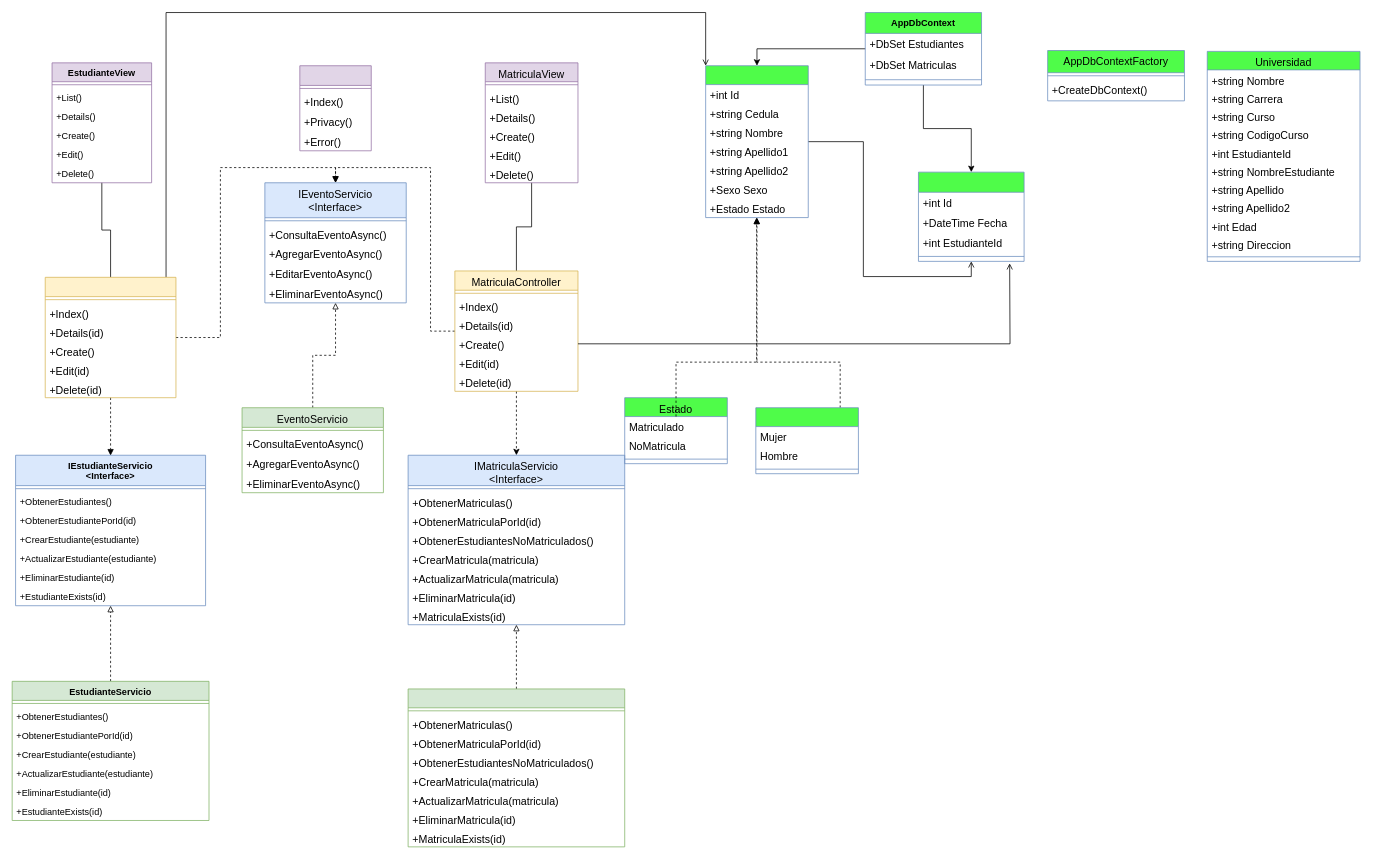
Image size: 1373x860. Some labels were removed from this diagram. Each missing label, with the box of its shape:
Estudiante: (705, 65, 808, 218)
EstudianteController: (44, 277, 176, 398)
HomeView: (299, 65, 371, 151)
Matricula: (918, 171, 1024, 261)
MatriculaServicio: (407, 688, 625, 847)
Sexo: (755, 407, 858, 474)
